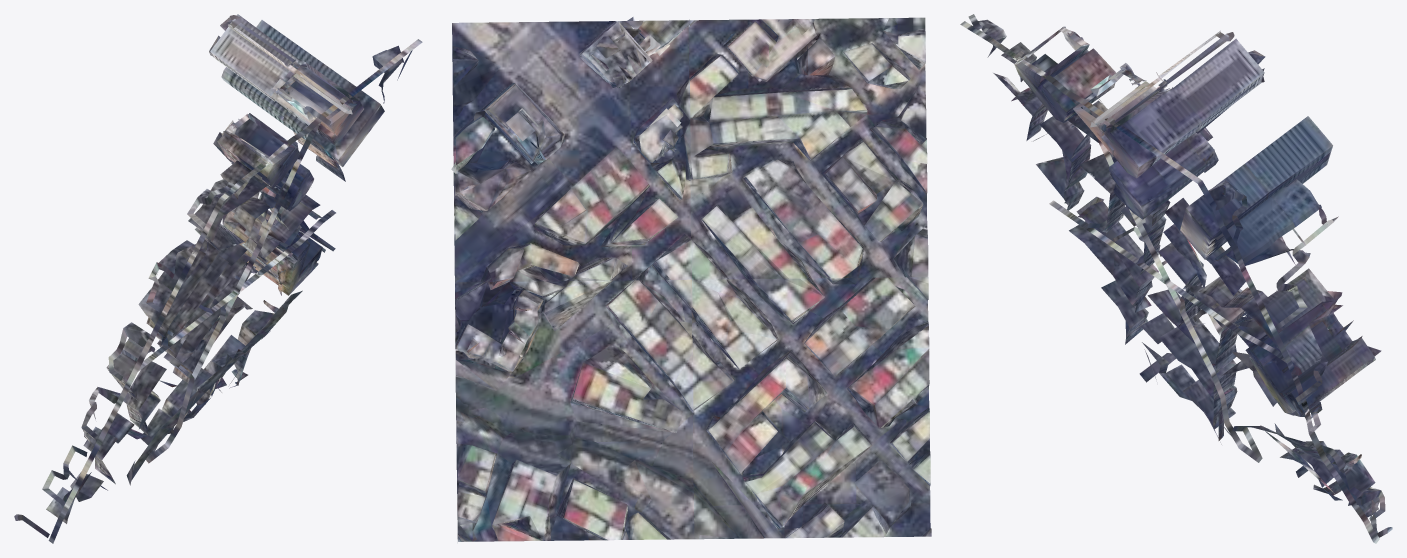
3 views of the same model, side by side, from view 1: azimuth 30°, elevation 25°; view 2: azimuth 150°, elevation 25°; view 3: azimuth 270°, elevation 25° (orthographic). The views are drawn at different scales.
Bounding box in the file's own units: 317 × 321 × 267.
2 materials, 2 textured.
